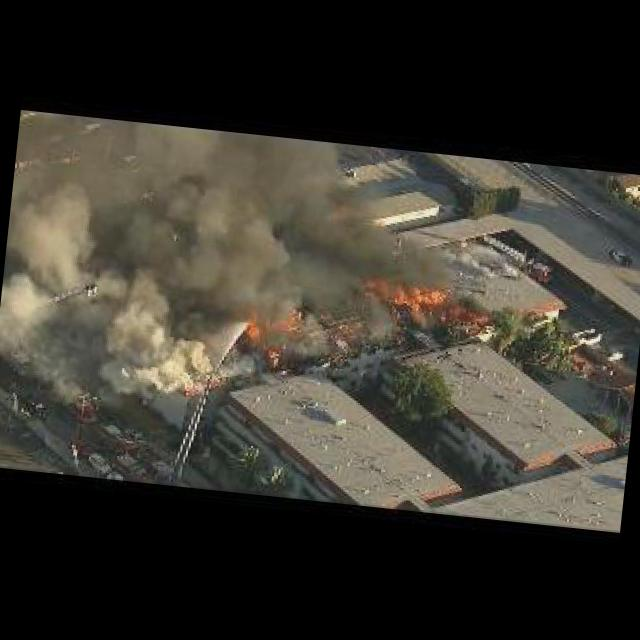Fire: (362, 272, 435, 308), (461, 304, 488, 328), (244, 318, 262, 338), (271, 315, 296, 329), (265, 347, 281, 364)
Smoke: (0, 109, 394, 413)
